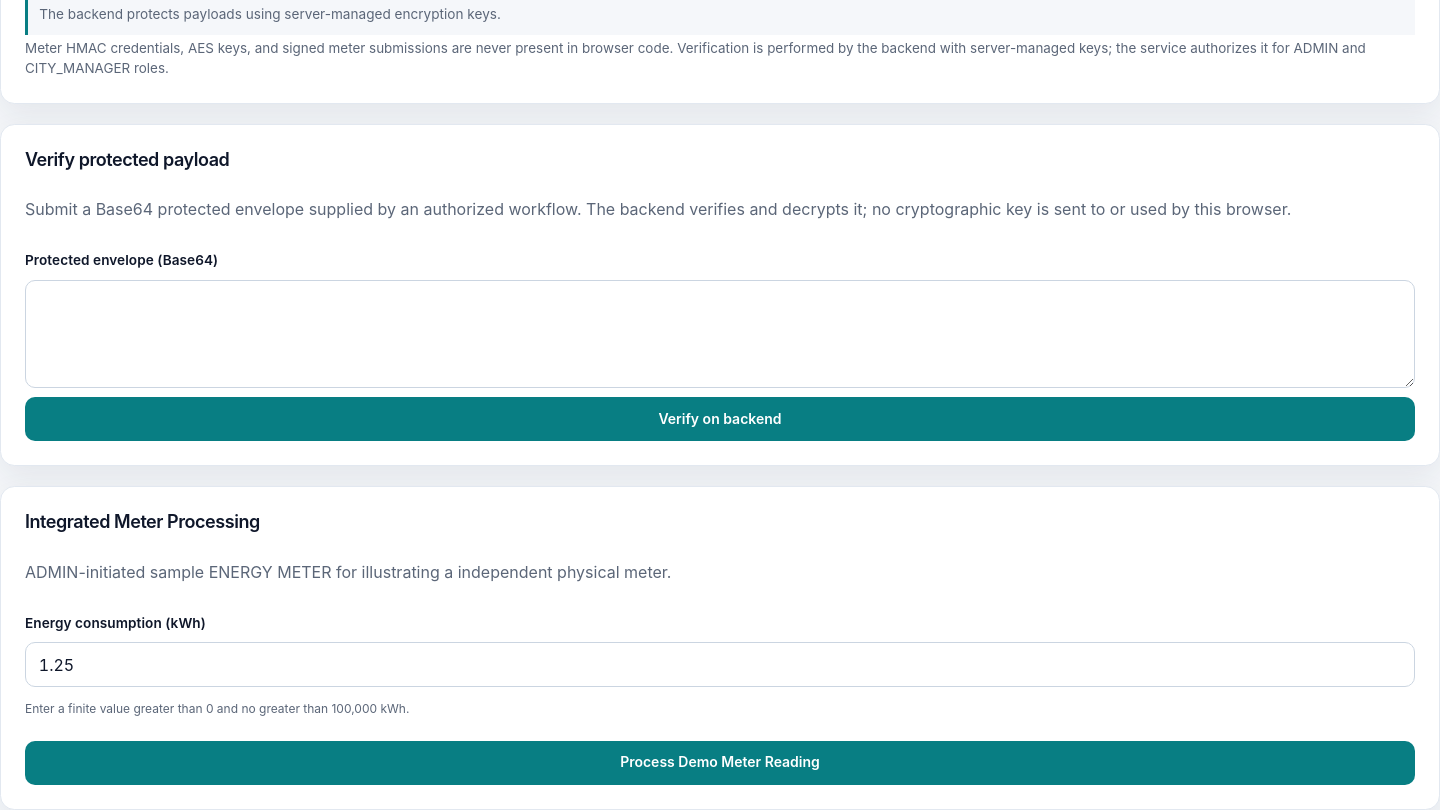
EnergyPage › does not present a success result when integrated processing fails
The width and height of the screenshot is (1440, 810).
(page scrolled)
Click the button "Process Demo Meter Reading" at [720, 763], box top-left (25, 741), bottom-right (1415, 785)
(page scrolled)
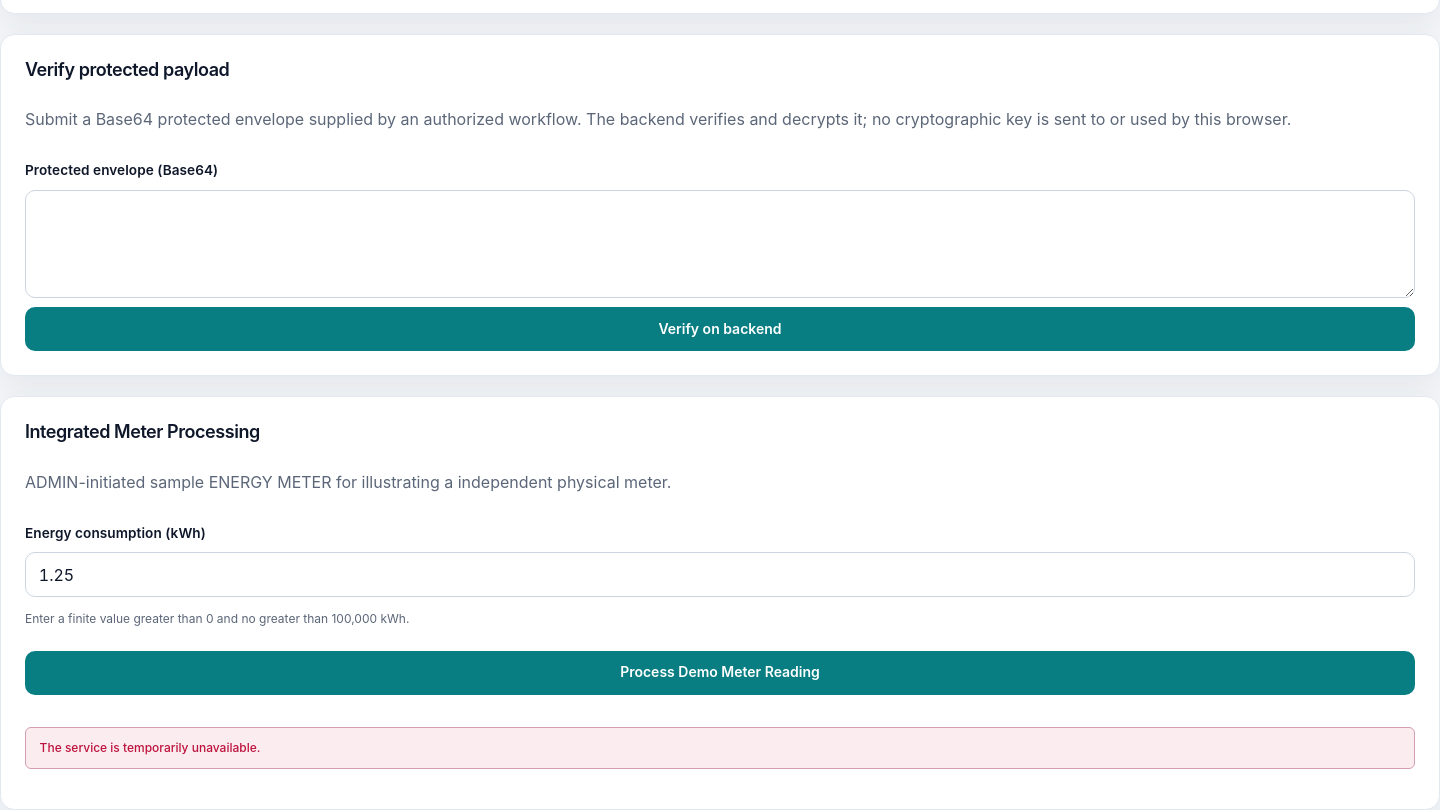
Check: the message shows "service is temporarily unavailable", box top-left (40, 740), bottom-right (260, 755)
